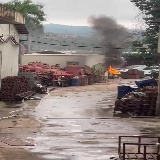fire: (108, 66, 121, 74)
